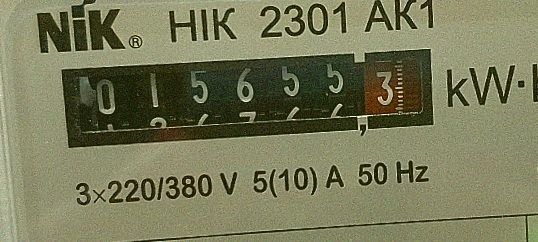0: (90, 74, 118, 117)
1: (142, 70, 163, 110)
3: (372, 69, 394, 106)
5: (184, 68, 211, 105), (277, 64, 302, 98), (324, 61, 344, 95)
6: (231, 66, 256, 104)
screen: (45, 28, 449, 165)
